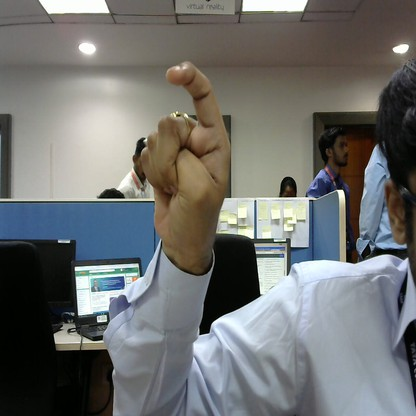x: (134, 64, 245, 260)
